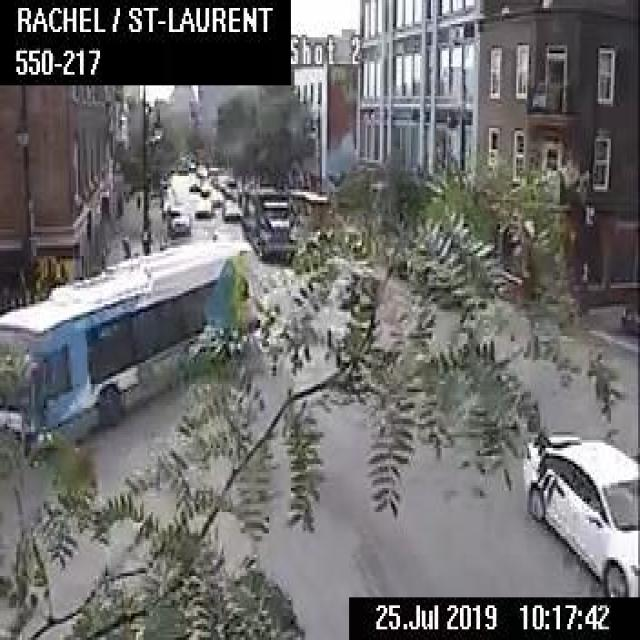bus: (0, 239, 256, 453)
vehicle: (521, 429, 638, 592), (240, 185, 297, 260), (621, 296, 638, 336), (167, 209, 190, 234), (221, 198, 240, 218), (194, 198, 213, 217), (206, 188, 223, 204)
